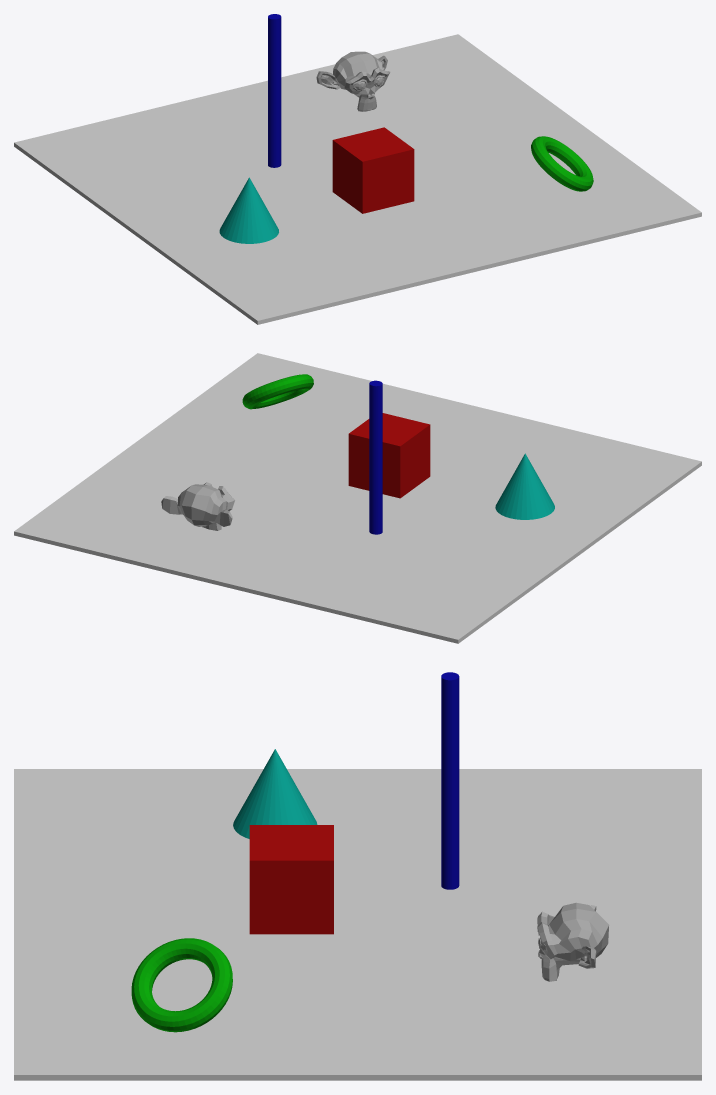
The model's file is myscene.obj.
3 views of the same model, one above another, from view 1: azimuth 30°, elevation 25°; view 2: azimuth 150°, elevation 25°; view 3: azimuth 270°, elevation 25° (orthographic). The views are drawn at different scales.
Parts seen in each view (by area): view 1: Cube_Cube.002, Cube.001, Suzanne, Cone, Cylinder, Torus; view 2: Cube_Cube.002, Cube.001, Suzanne, Cone, Cylinder, Torus; view 3: Cube_Cube.002, Cube.001, Torus, Cylinder, Suzanne, Cone.
Part boxes in pixels (x1,y1,x2,y2): Cube_Cube.002: [14, 34, 701, 324]; Cube.001: [332, 127, 414, 213]; Suzanne: [316, 51, 389, 111]; Cone: [219, 177, 278, 243]; Cylinder: [268, 14, 281, 167]; Torus: [531, 136, 593, 191]; Cube_Cube.002: [14, 353, 701, 643]; Cube.001: [348, 413, 430, 498]; Suzanne: [161, 482, 234, 530]; Cone: [495, 453, 554, 519]; Cylinder: [369, 380, 382, 534]; Torus: [242, 374, 313, 409]; Cube_Cube.002: [14, 769, 701, 1080]; Cube.001: [249, 825, 333, 934]; Torus: [131, 938, 232, 1032]; Cylinder: [441, 672, 459, 889]; Suzanne: [537, 902, 608, 981]; Cone: [233, 749, 317, 838].
Size of the model in its own units: 17.16 by 5.73 by 16.3.
